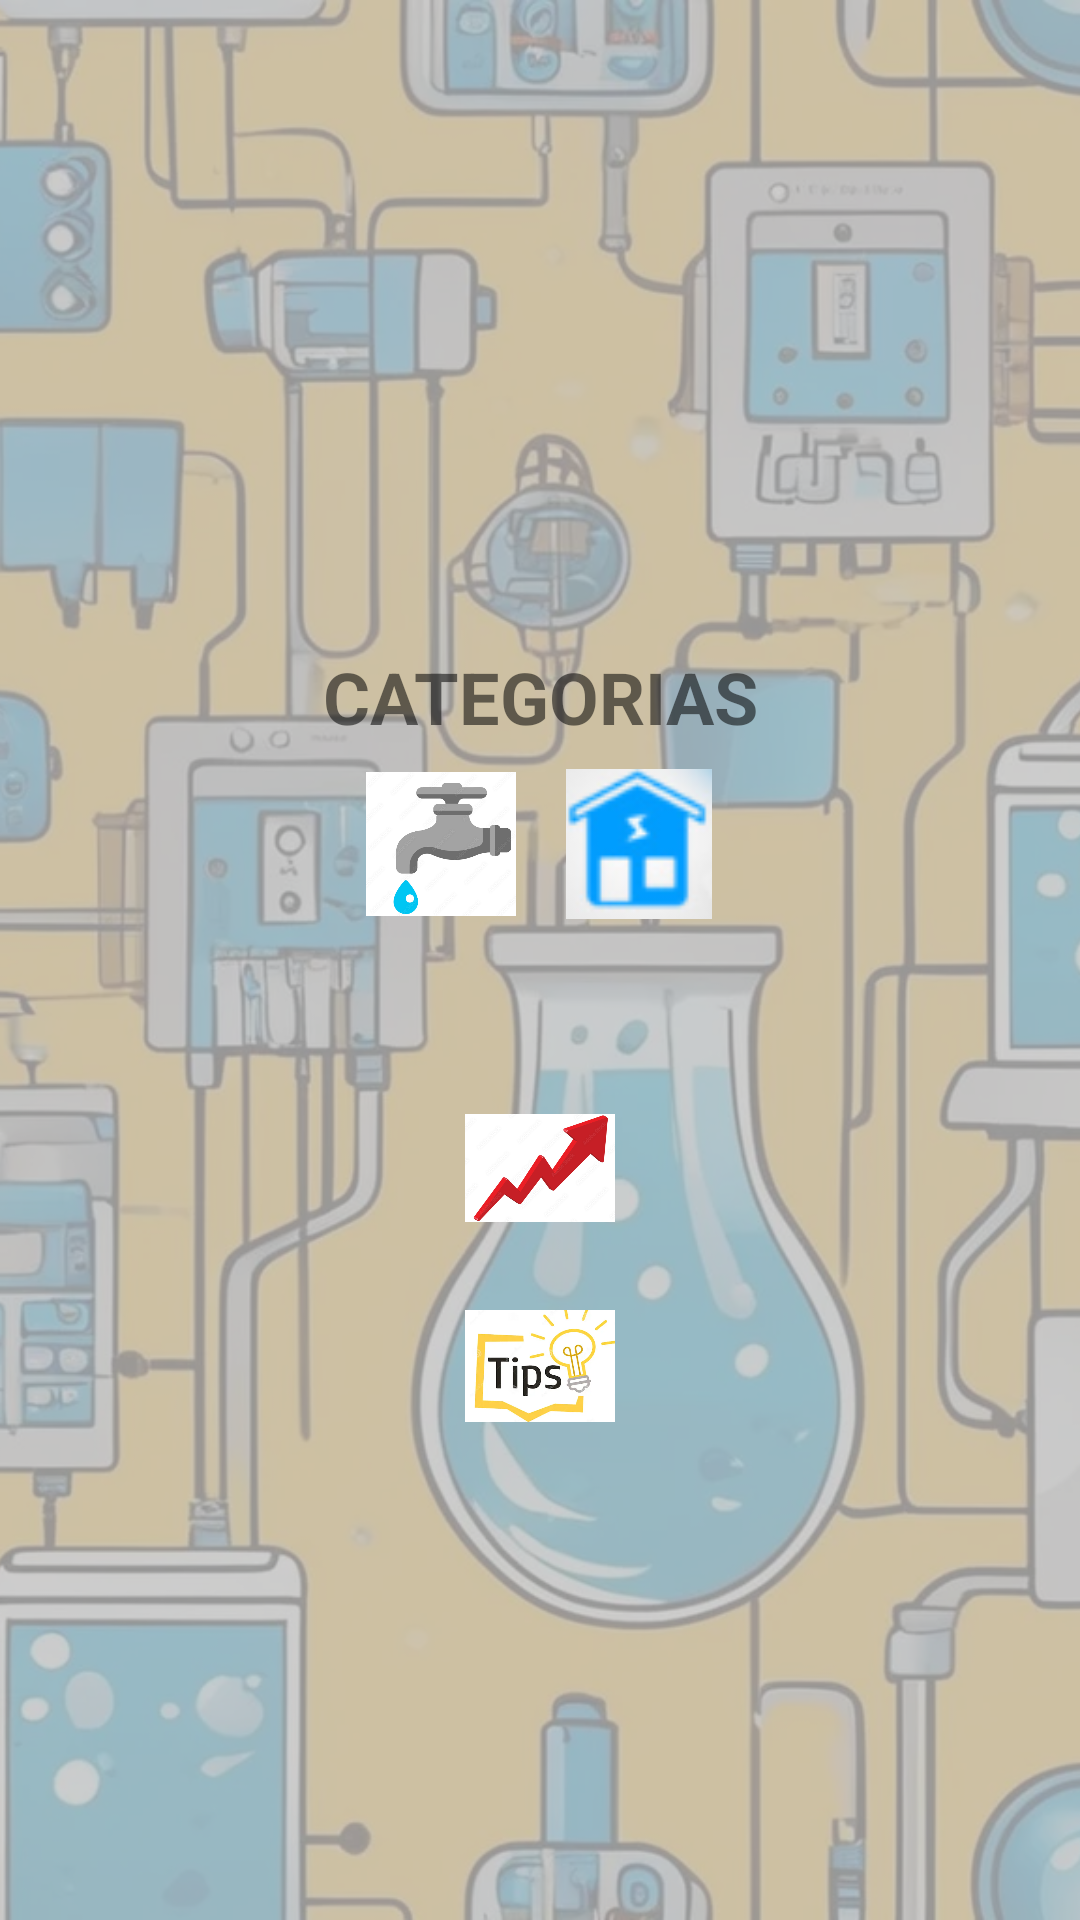

Icons on this 1080w x 1920h Android screen, each with the point to tap as (x=x, y=y):
Agua: (x=441, y=844)
Electricidad: (x=639, y=844)
Estadísticas: (x=540, y=1168)
